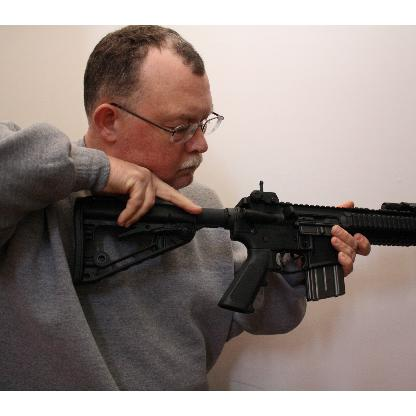gun: (67, 177, 416, 315)
